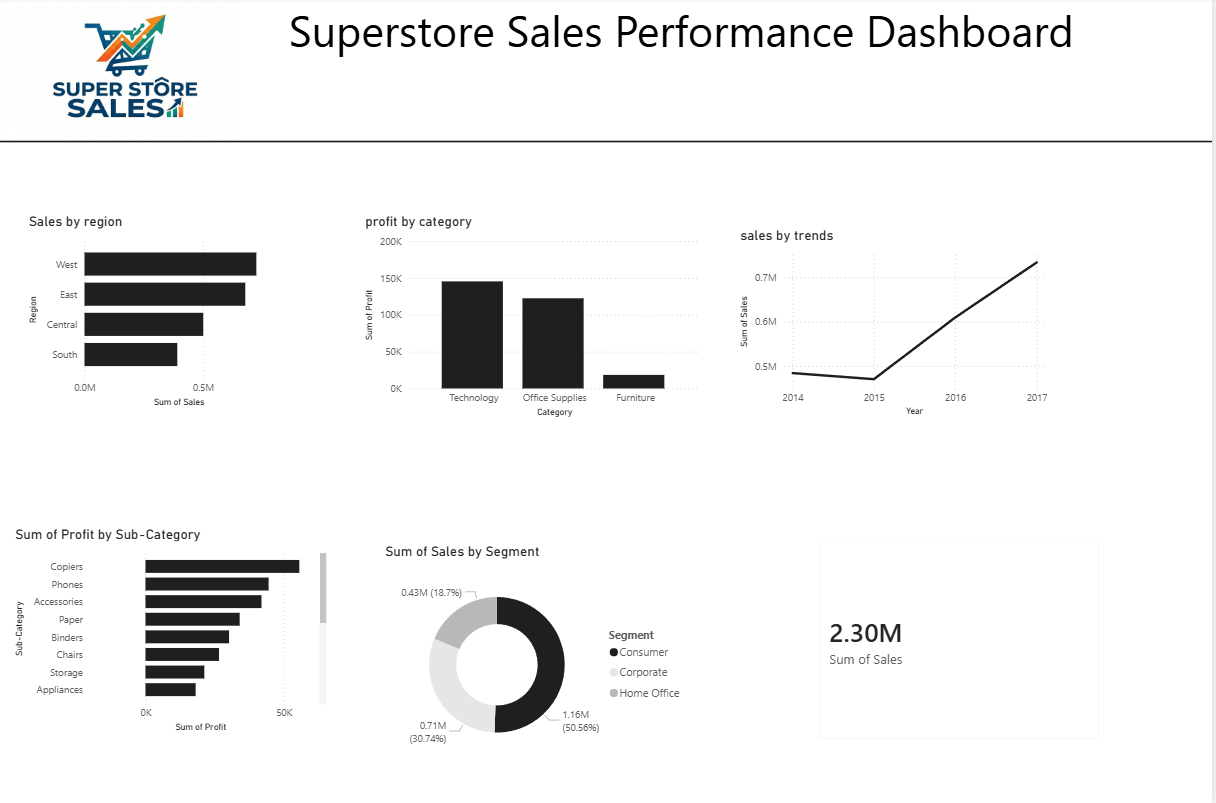

Layout of this report page (visuals, bound fields, positions):
{"tool":"powerbi","page":{"name":"Page 1","canvas":[1280,720],"ordinal":0},"visuals":[{"type":"clusteredBarChart","title":"Sales by region","fields":{"Category":["Sample - Superstore.Region"],"Y":["Sum(Sample - Superstore.Sales)"]},"box":[57.6,53.5,279.9,279.9],"z":0},{"type":"clusteredColumnChart","title":" profit by category","fields":{"Y":["Sum(Sample - Superstore.Profit)"],"Category":["Sample - Superstore.Category"]},"box":[452.8,68.6,279.9,279.9],"z":1},{"type":"lineChart","title":"sales by trends","fields":{"Category":["Sample - Superstore.Order Date.Variation.Date Hierarchy.Year","Sample - Superstore.Order Date.Variation.Date Hierarchy.Quarter","Sample - Superstore.Order Date.Variation.Date Hierarchy.Month","Sample - Superstore.Order Date.Variation.Date Hierarchy.Day"],"Y":["Sum(Sample - Superstore.Sales)"]},"box":[918,68.6,279.9,279.9],"z":2},{"type":"clusteredBarChart","fields":{"Category":["Sample - Superstore.Sub-Category"],"Y":["Sum(Sample - Superstore.Profit)"]},"box":[57.6,417.2,279.9,279.9],"z":3},{"type":"donutChart","fields":{"Category":["Sample - Superstore.Segment"],"Y":["Sum(Sample - Superstore.Sales)"]},"box":[453,417,280,280],"z":4},{"type":"cardVisual","fields":{"Data":["Sum(Sample - Superstore.Sales)","Sum(Sample - Superstore.Sales)"]},"box":[848.8,418.6,280.2,279.1],"z":5}]}

Visuals, with their boxes on the page's 1280x720 design canvas (x1, y1, x2, y2). These are canvas units, not pixel positions in the 1216x803 screenshot, which may show the page scaled, cropped or inside an application window:
"Sales by region" clusteredBarChart: box(58, 54, 338, 333)
" profit by category" clusteredColumnChart: box(453, 69, 733, 348)
"sales by trends" lineChart: box(918, 69, 1198, 348)
clusteredBarChart - Sample - Superstore.Sub-Category x Sum(Sample - Superstore.Profit): box(58, 417, 338, 697)
donutChart - Sample - Superstore.Segment x Sum(Sample - Superstore.Sales): box(453, 417, 733, 697)
cardVisual - Sum(Sample - Superstore.Sales) x Sum(Sample - Superstore.Sales): box(849, 419, 1129, 698)
